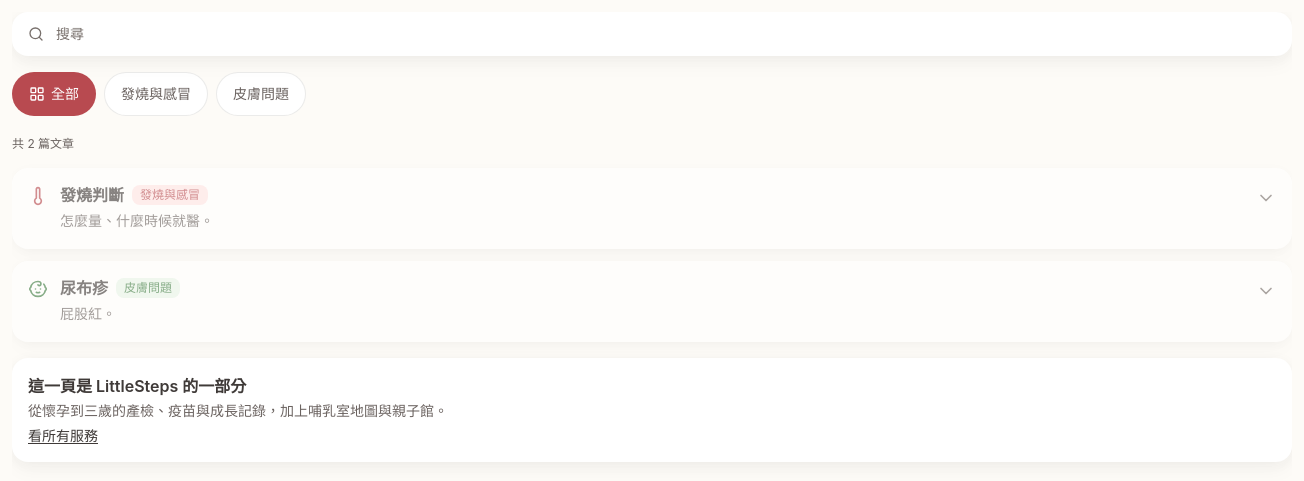
Test: WikiBrowser: an open article › finds an article from two words typed with a space
In the search field: (652, 34) x1=12 y1=12 x2=1292 y2=56, type "體溫 病毒"
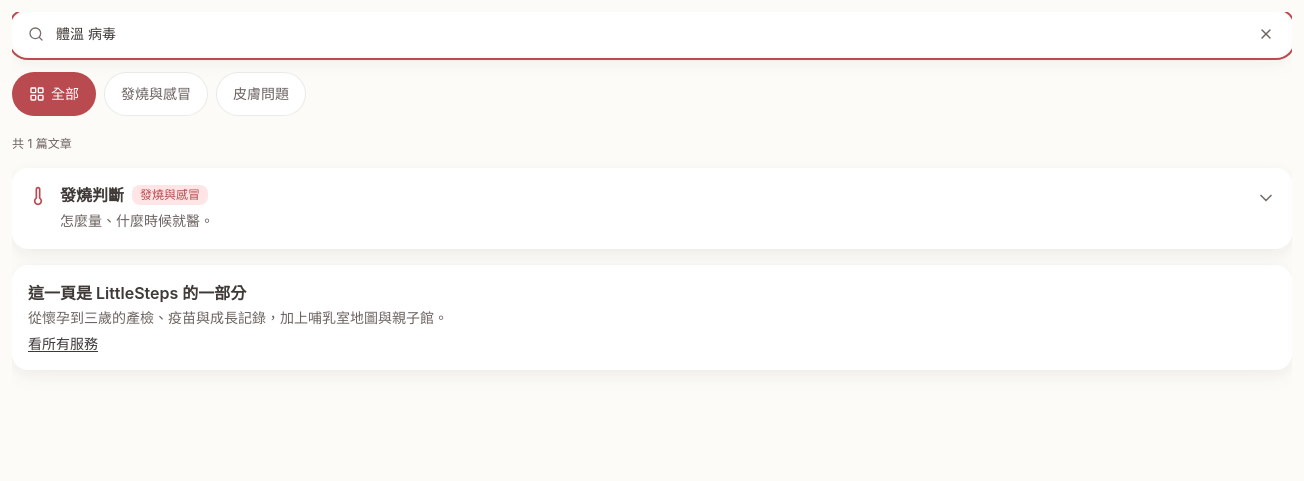
Expected: the heading "發燒判斷" is shown, x1=60 y1=184 x2=124 y2=206
Now the button "尿布疹" is gone
